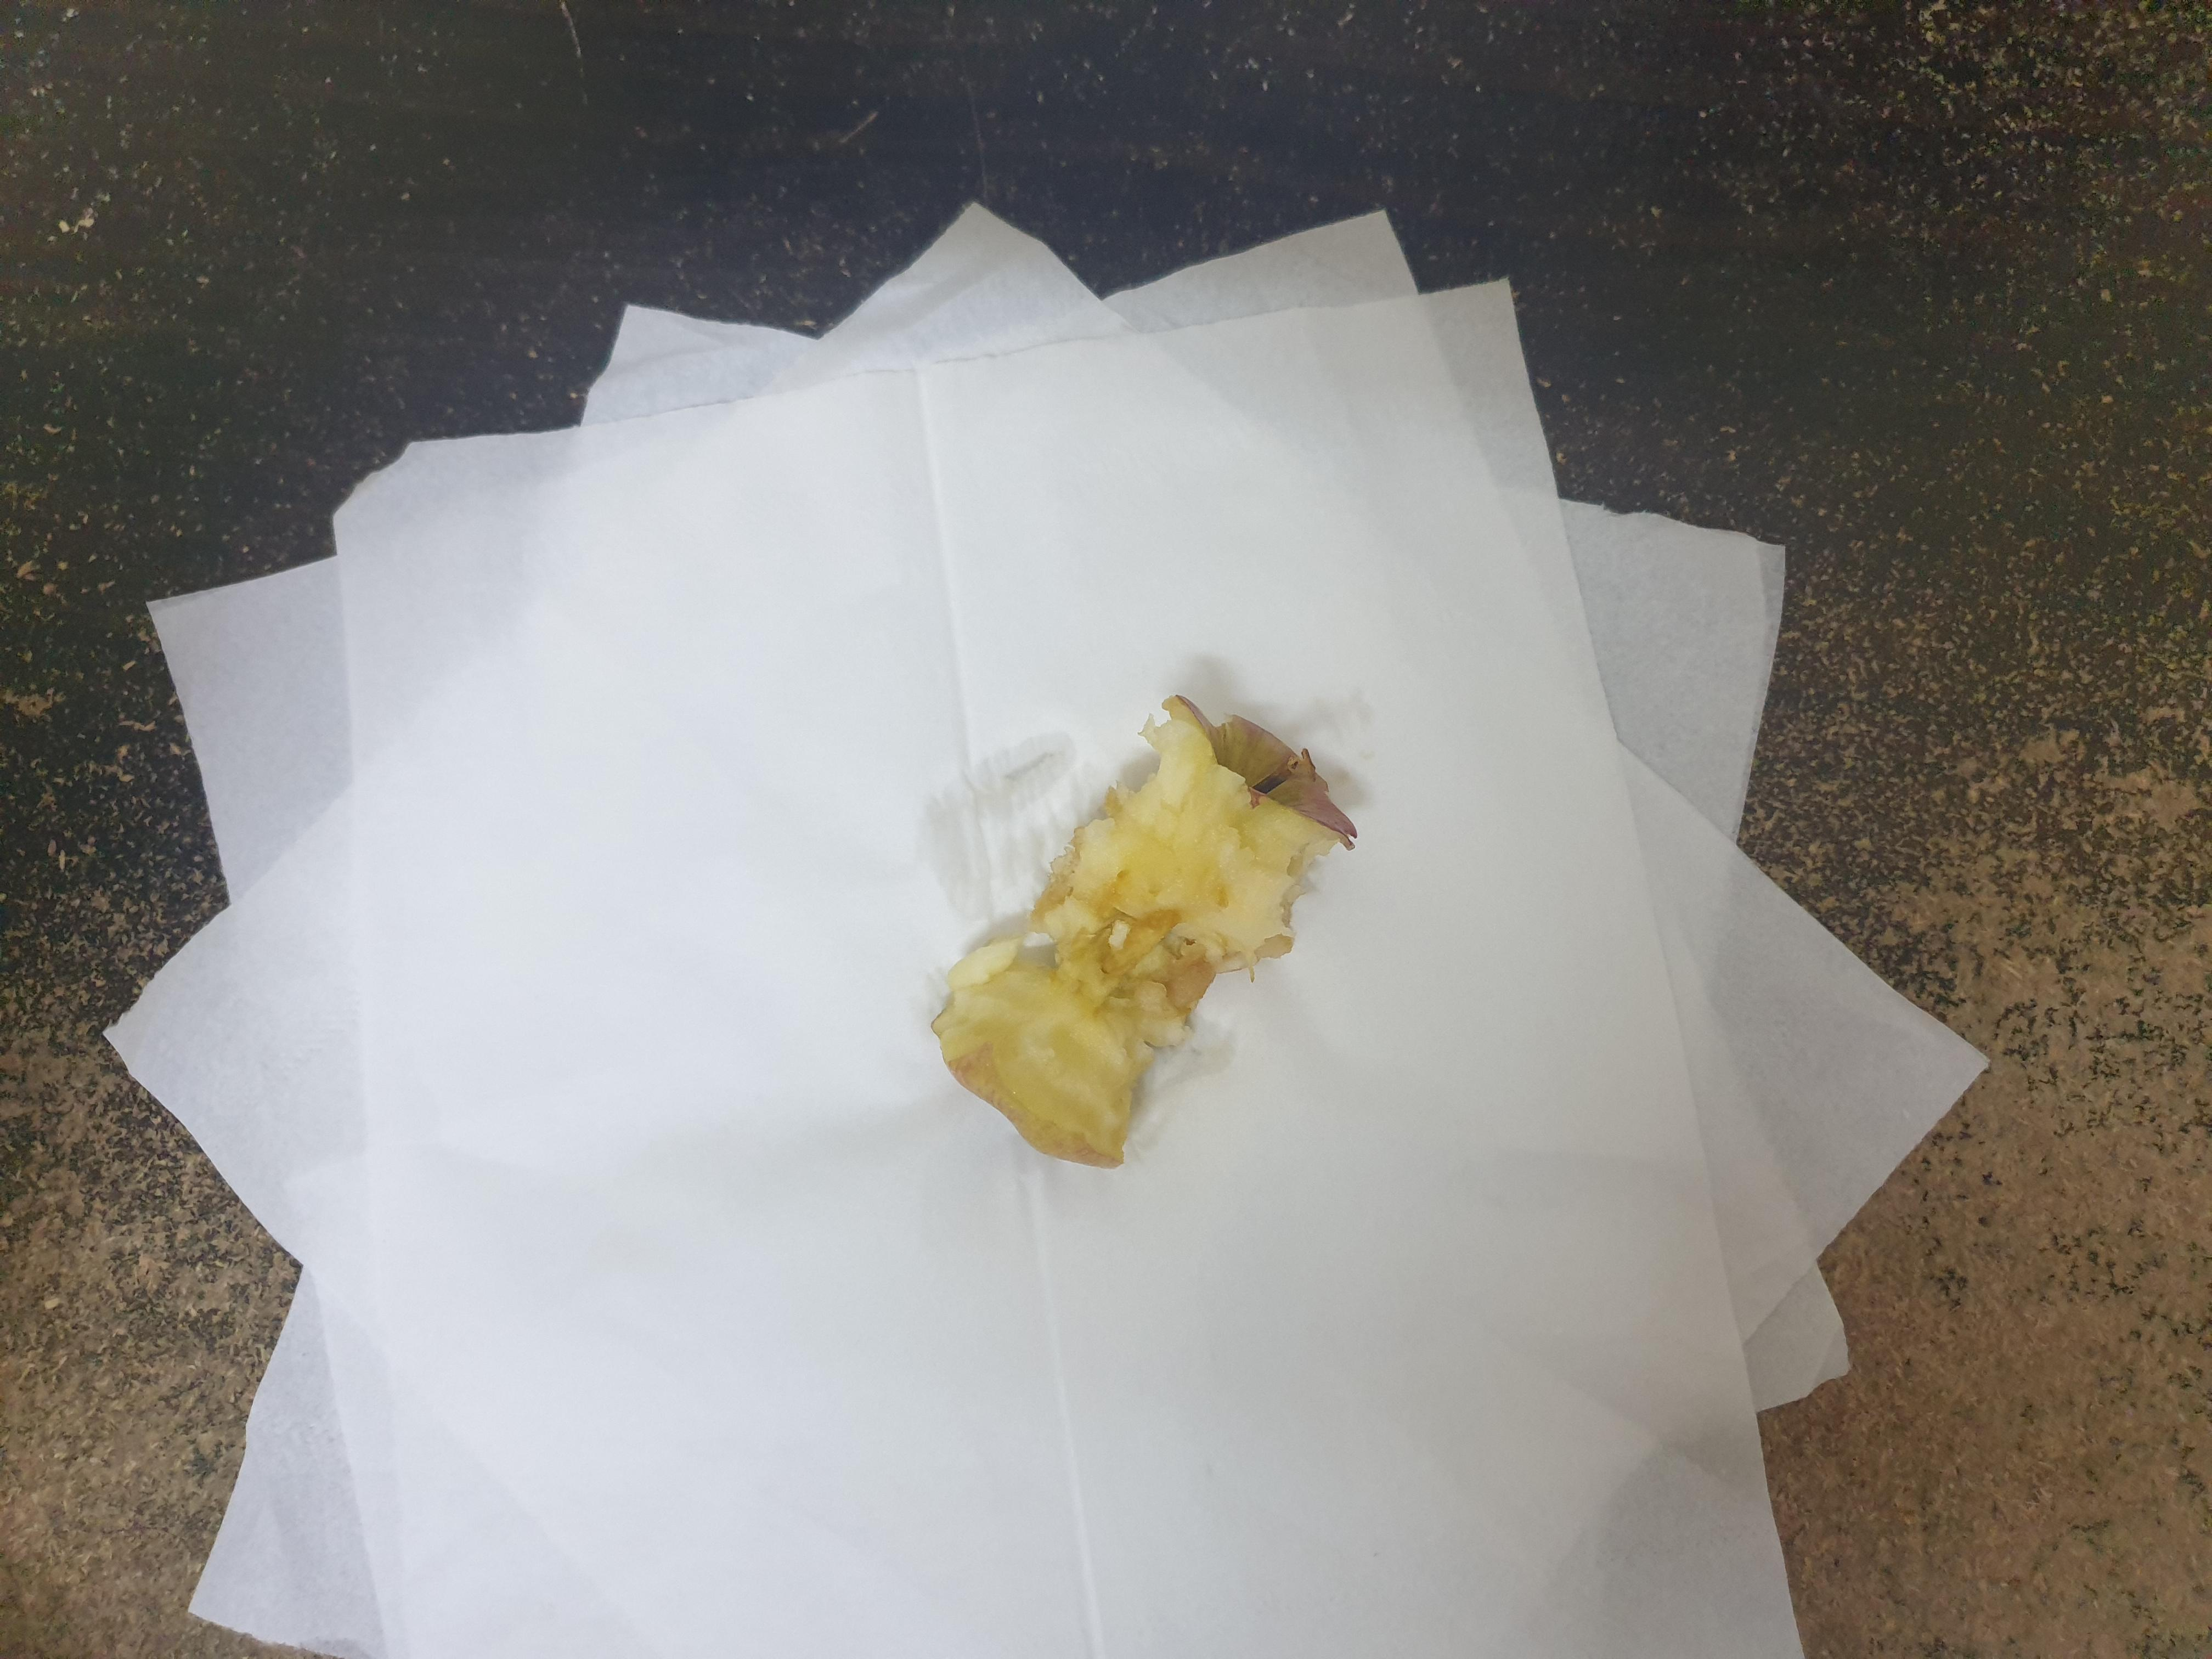Apple: (920, 673, 1383, 1211)
